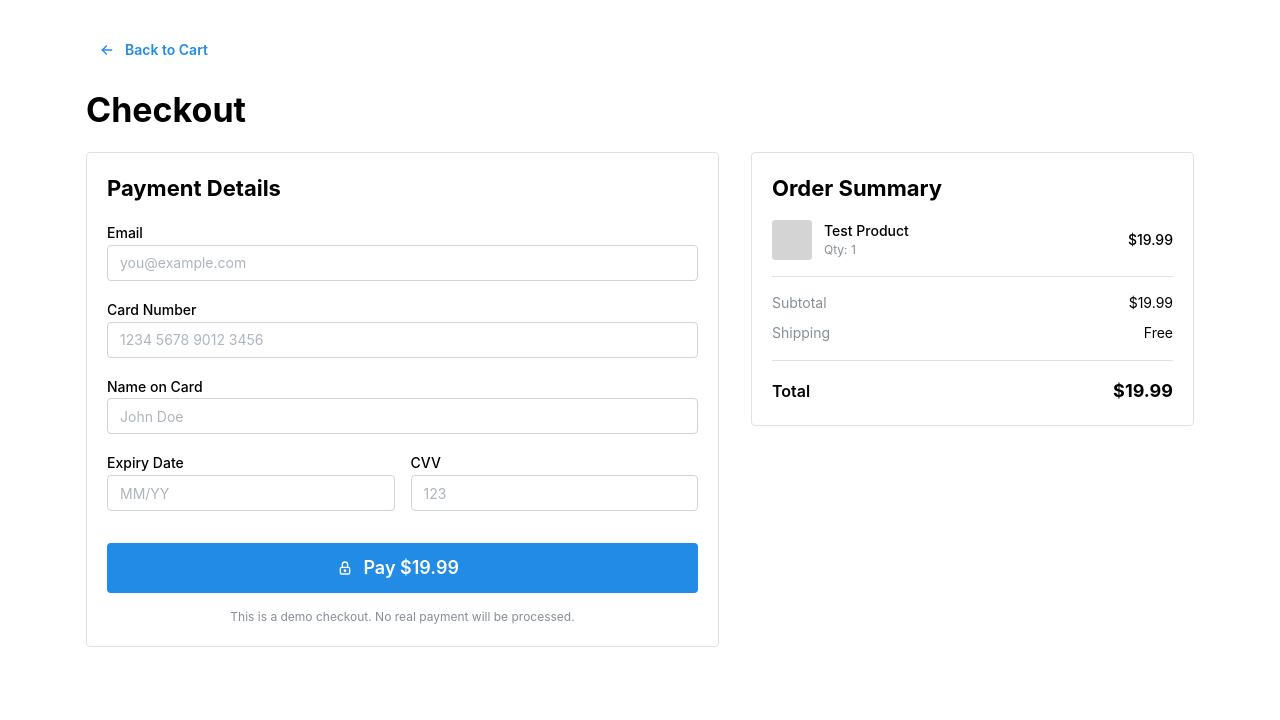
Scenario: Checkout Page › Payment Form › shows validation error for invalid card number
In the field labelled "Card Number": x=402, y=340 [107, 322, 698, 358], type "1234"
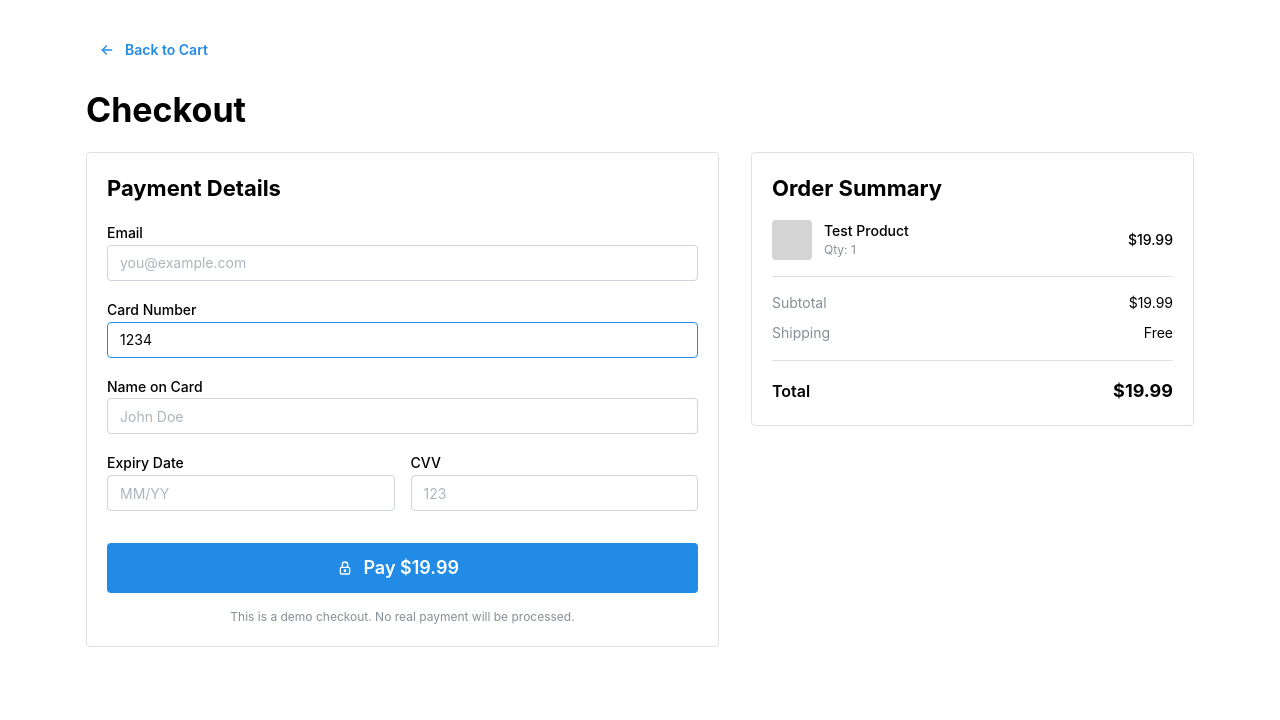
Click the button "Pay $19.99": x=402, y=568 [107, 543, 698, 593]
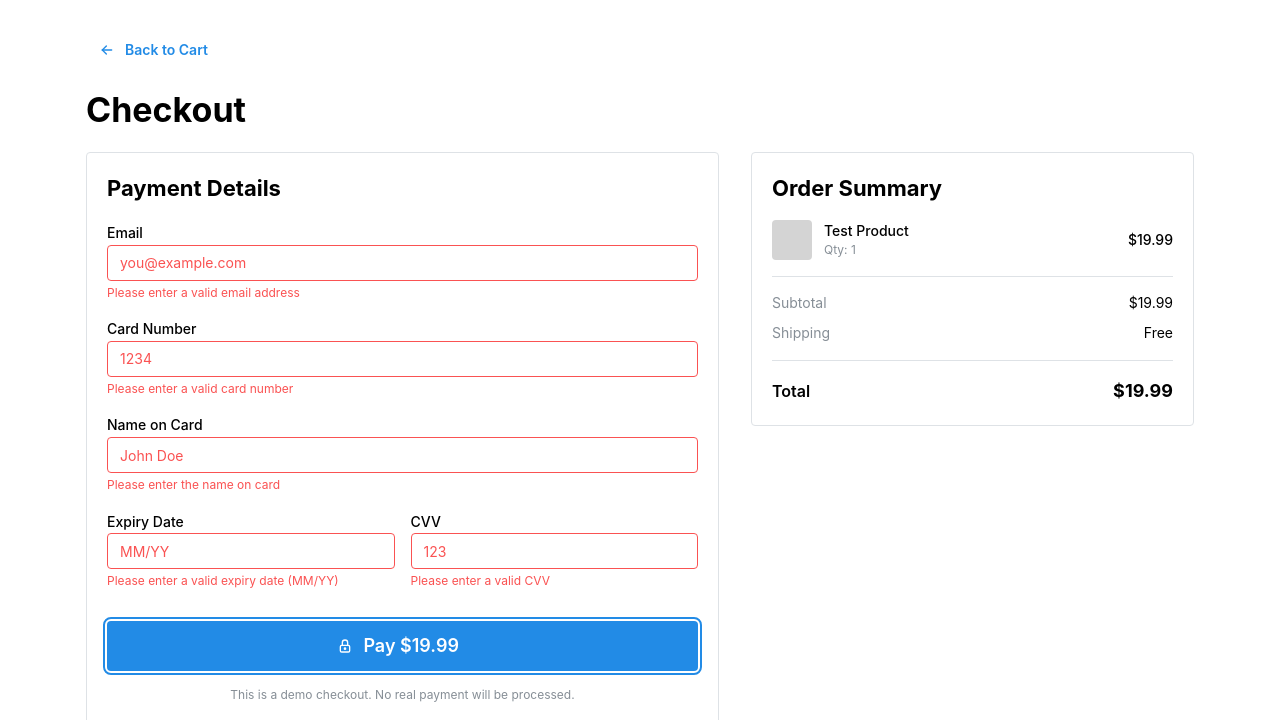
expect the text "Please enter a valid card number" is shown: met, box [107, 381, 293, 396]
